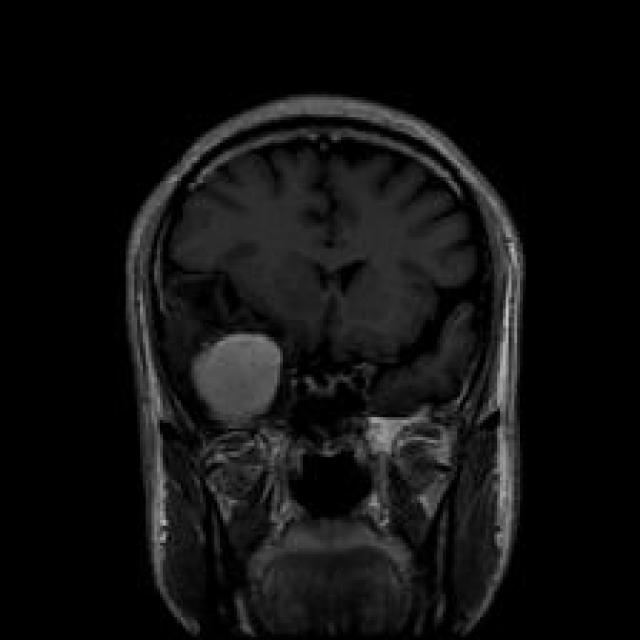meningioma_tumor: (186, 324, 292, 434)
